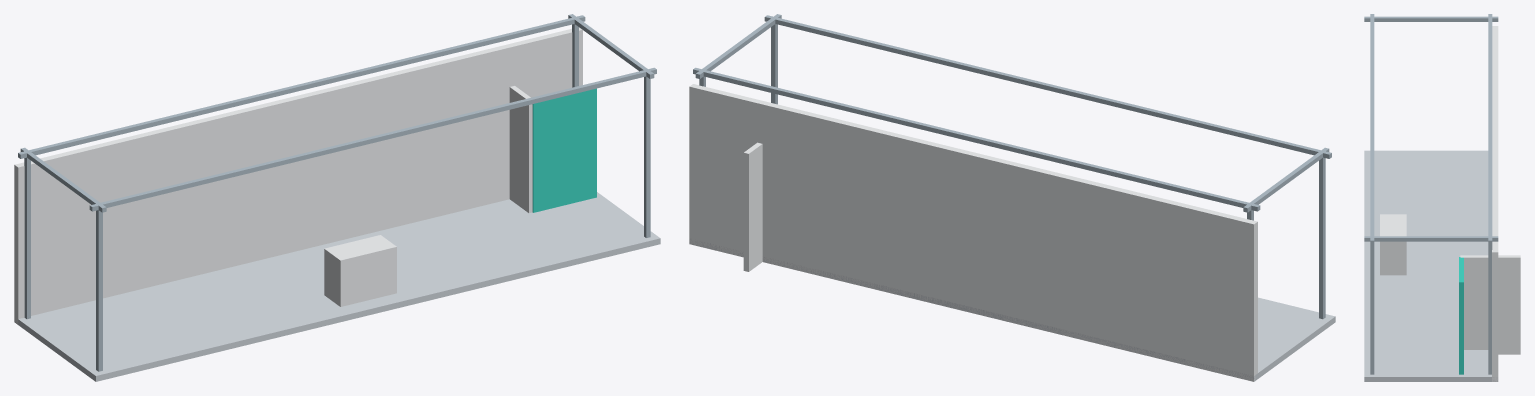
3 renders of one model, left to right at view 1: azimuth 30°, elevation 25°; view 2: azimuth 150°, elevation 25°; view 3: azimuth 270°, elevation 25°, orthographic. The views are drawn at different scales.
Visible parts, largest first — view 1: Exhibition Booth Concept; view 2: Exhibition Booth Concept; view 3: Exhibition Booth Concept.
Part boxes in pixels (x1=…): Exhibition Booth Concept: x1=14, y1=14, x2=660, y2=381; Exhibition Booth Concept: x1=689, y1=14, x2=1335, y2=381; Exhibition Booth Concept: x1=1364, y1=14, x2=1520, y2=381.
Size of the model in its own units: 12 by 3.49 by 3.51.
